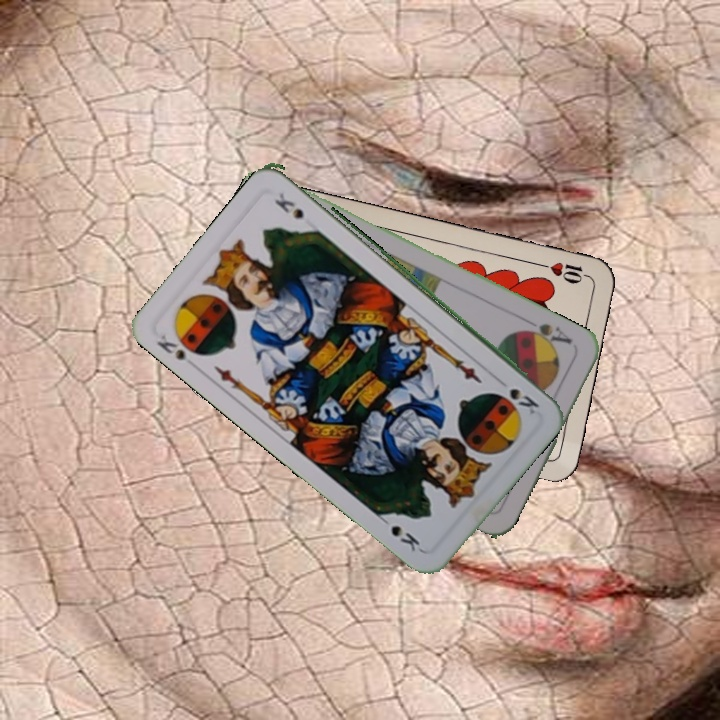H10: (536, 258, 595, 287)
SA: (520, 316, 575, 351)
SK: (153, 331, 200, 372), (505, 384, 542, 417)
